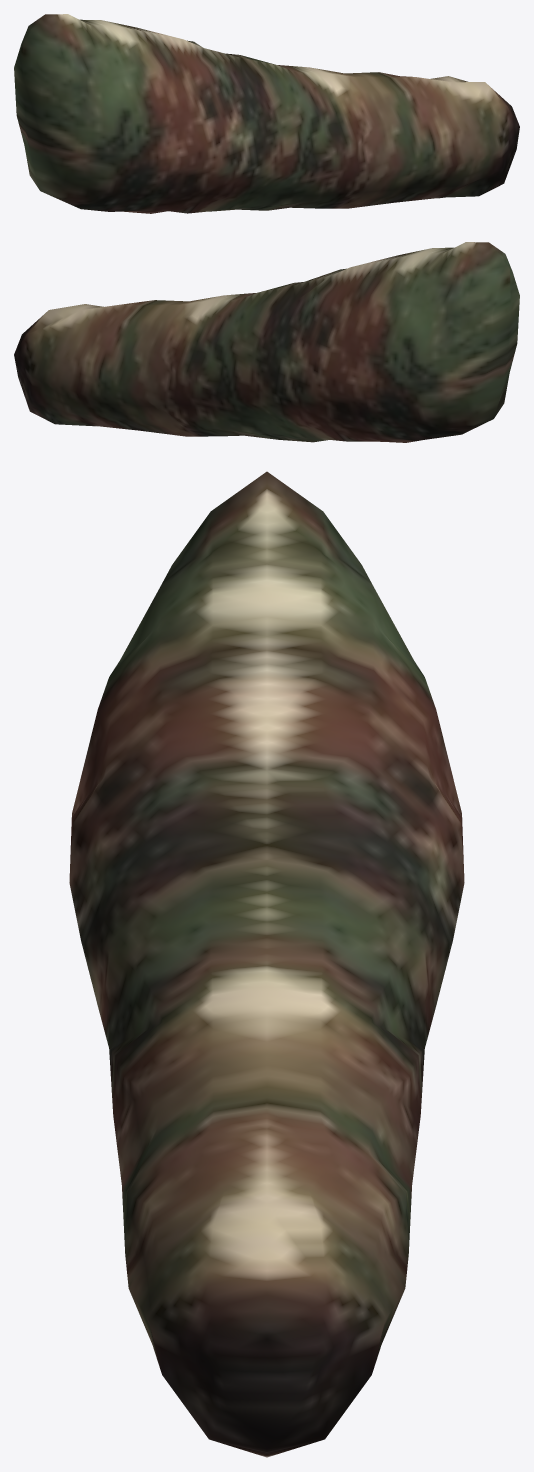
File: LHAND.obj
The picture shows the model from 3 angles, top to bottom: view 1: azimuth 30°, elevation 25°; view 2: azimuth 150°, elevation 25°; view 3: azimuth 270°, elevation 25°; orthographic projection. The views are drawn at different scales.
Bounding box in the file's own units: 0.5275 × 0.2928 × 0.1846.
